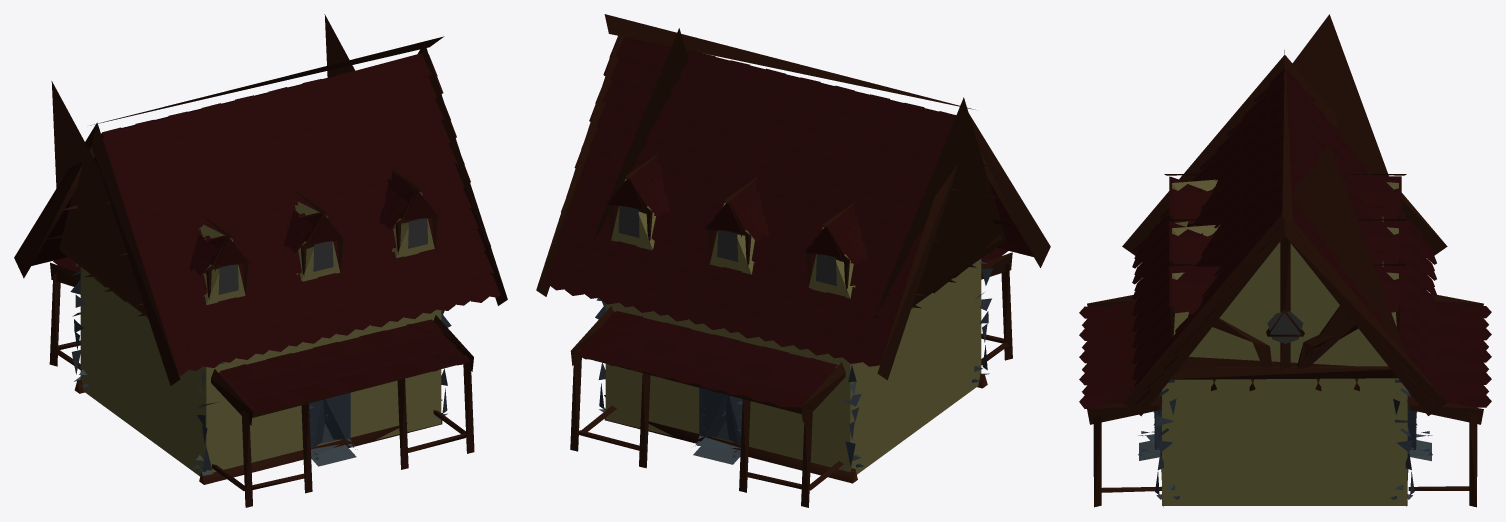
File: Inn.fbx
3 views of the same model, side by side, from view 1: azimuth 30°, elevation 25°; view 2: azimuth 150°, elevation 25°; view 3: azimuth 270°, elevation 25° (orthographic). The views are drawn at different scales.
Visible parts, largest first — view 1: High_Inn, Low_Inn; view 2: High_Inn, Low_Inn; view 3: High_Inn, Low_Inn.
Boxes of the visible parts, x1,y1,x2,y2 form: High_Inn: (14, 36, 507, 507); Low_Inn: (51, 14, 354, 447); High_Inn: (536, 14, 1050, 507); Low_Inn: (580, 28, 1005, 444); High_Inn: (1079, 50, 1491, 507); Low_Inn: (1176, 14, 1414, 372).
Bounding box in the file's own units: 406 × 375 × 402.
